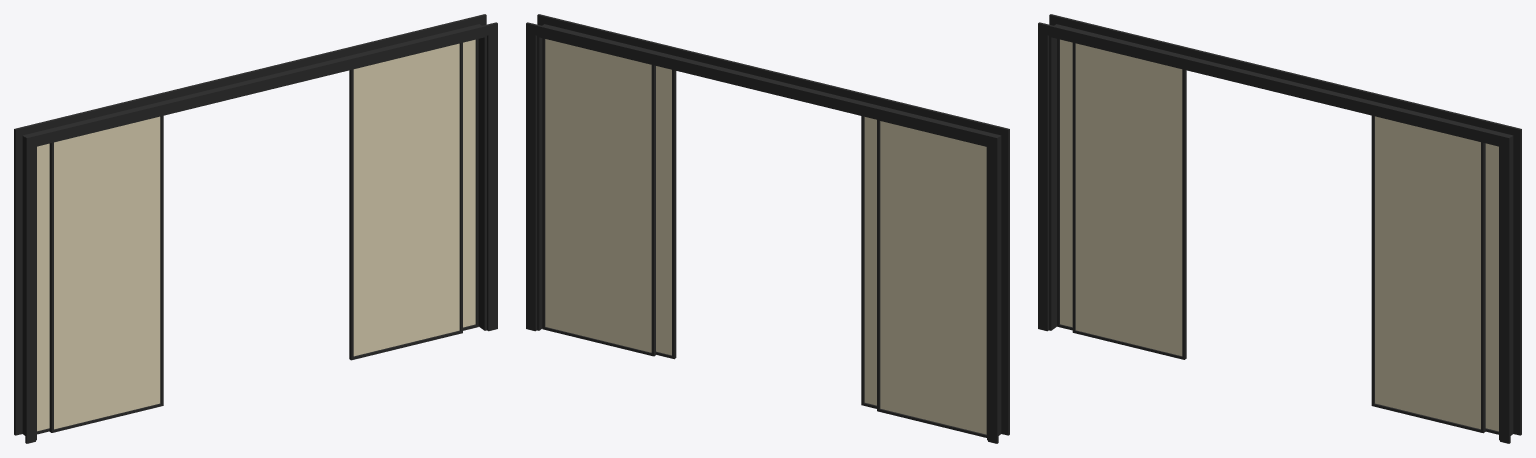
The model's file is 厨房移门3540*2500*240.glb.
The picture shows the model from 3 angles, left to right: view 1: azimuth 30°, elevation 25°; view 2: azimuth 150°, elevation 25°; view 3: azimuth 330°, elevation 25°; orthographic projection.
Parts seen in each view (by area): view 1: SK_Glass_1@x3_y1_z2, SK_Glass_1@x1_y1_z2, SK_Solid_1@x1_y1_z2, SK_Solid_1@x3_y1_z2, SK_Solid_1@x1_y1_z3, SK_Solid_1@x3_y1_z3, SK_Solid_1@x2_y1_z3, SK_Glass_1@x1_y1_z1, SK_Glass_1@x3_y1_z1, SK_Solid_1@x3_y1_z1, SK_Solid_1@x1_y1_z1, SK_Glass_1@x3_y1_z3 (+1 smaller); view 2: SK_Glass_1@x3_y1_z2, SK_Glass_1@x1_y1_z2, SK_Solid_1@x1_y1_z2, SK_Solid_1@x3_y1_z2, SK_Solid_1@x1_y1_z3, SK_Solid_1@x3_y1_z3, SK_Solid_1@x2_y1_z3, SK_Glass_1@x3_y1_z1, SK_Glass_1@x1_y1_z1, SK_Solid_1@x1_y1_z1, SK_Glass_1@x3_y1_z3, SK_Solid_1@x3_y1_z1 (+1 smaller); view 3: SK_Glass_1@x1_y1_z2, SK_Glass_1@x3_y1_z2, SK_Solid_1@x3_y1_z2, SK_Solid_1@x1_y1_z2, SK_Solid_1@x1_y1_z3, SK_Solid_1@x3_y1_z3, SK_Solid_1@x2_y1_z3, SK_Glass_1@x1_y1_z1, SK_Glass_1@x3_y1_z1, SK_Solid_1@x3_y1_z1, SK_Solid_1@x1_y1_z1, SK_Glass_1@x3_y1_z3 (+1 smaller).
Boxes of the visible parts, box(x1,y1,x2,y2) form: SK_Glass_1@x3_y1_z2: box(353, 43, 475, 344); SK_Glass_1@x1_y1_z2: box(37, 123, 160, 419); SK_Solid_1@x1_y1_z2: box(14, 122, 163, 429); SK_Solid_1@x3_y1_z2: box(349, 43, 497, 345); SK_Solid_1@x1_y1_z3: box(14, 90, 185, 160); SK_Solid_1@x3_y1_z3: box(331, 14, 497, 76); SK_Solid_1@x2_y1_z3: box(173, 51, 343, 110); SK_Glass_1@x1_y1_z1: box(37, 392, 160, 431); SK_Glass_1@x3_y1_z1: box(353, 312, 475, 356); SK_Solid_1@x3_y1_z1: box(349, 312, 497, 360); SK_Solid_1@x1_y1_z1: box(14, 391, 163, 443); SK_Glass_1@x3_y1_z3: box(353, 39, 475, 75); SK_Glass_1@x3_y1_z2: box(545, 46, 671, 343); SK_Glass_1@x1_y1_z2: box(864, 122, 986, 422); SK_Solid_1@x1_y1_z2: box(861, 122, 1009, 429); SK_Solid_1@x3_y1_z2: box(526, 46, 676, 344); SK_Solid_1@x1_y1_z3: box(838, 90, 1009, 160); SK_Solid_1@x3_y1_z3: box(526, 14, 692, 75); SK_Solid_1@x2_y1_z3: box(680, 51, 850, 110); SK_Glass_1@x3_y1_z1: box(545, 315, 671, 355); SK_Glass_1@x1_y1_z1: box(864, 391, 986, 434); SK_Solid_1@x1_y1_z1: box(861, 391, 1009, 443); SK_Glass_1@x3_y1_z3: box(545, 39, 671, 74); SK_Solid_1@x3_y1_z1: box(526, 314, 676, 359); SK_Glass_1@x1_y1_z2: box(1060, 43, 1182, 344); SK_Glass_1@x3_y1_z2: box(1375, 123, 1498, 419); SK_Solid_1@x3_y1_z2: box(1371, 123, 1521, 429); SK_Solid_1@x1_y1_z2: box(1038, 43, 1186, 345); SK_Solid_1@x1_y1_z3: box(1038, 14, 1209, 76); SK_Solid_1@x3_y1_z3: box(1355, 91, 1521, 160); SK_Solid_1@x2_y1_z3: box(1197, 53, 1366, 111); SK_Glass_1@x1_y1_z1: box(1060, 312, 1182, 355); SK_Glass_1@x3_y1_z1: box(1375, 391, 1498, 431); SK_Solid_1@x3_y1_z1: box(1371, 392, 1521, 443); SK_Solid_1@x1_y1_z1: box(1038, 312, 1186, 359); SK_Glass_1@x3_y1_z3: box(1375, 116, 1498, 150).
Size of the model in its own units: 4.03 by 2.5 by 0.1875.
2 materials, 1 textured.
